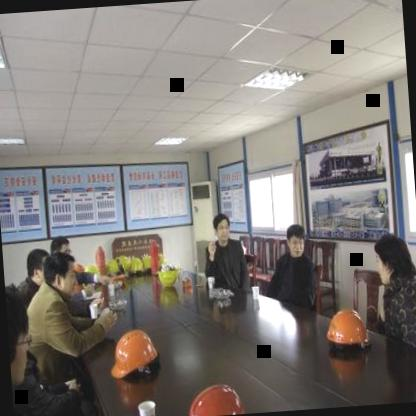head: (6, 288, 36, 386), (370, 230, 413, 291), (43, 250, 77, 298), (26, 247, 56, 292), (282, 221, 309, 262), (49, 232, 73, 264), (212, 210, 232, 246)
